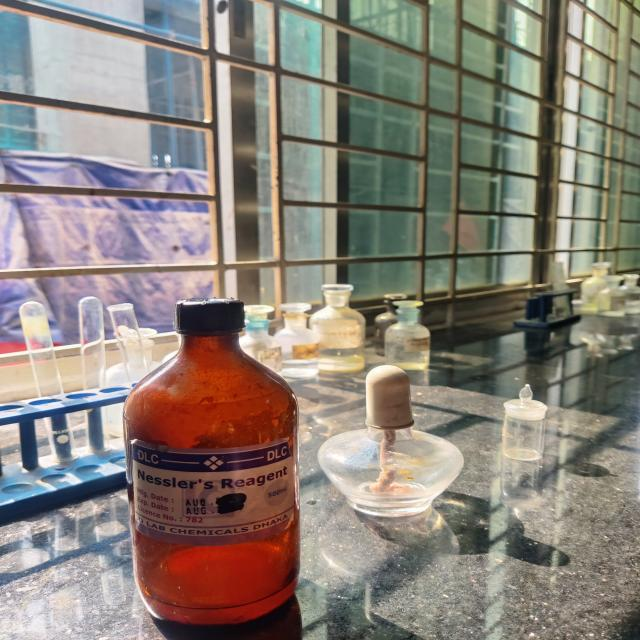Nessler_Reagent_Bottle: (77, 286, 309, 640)
Spirit_Lamp: (316, 352, 471, 540)
Weighing_Bottle: (485, 365, 570, 475)
